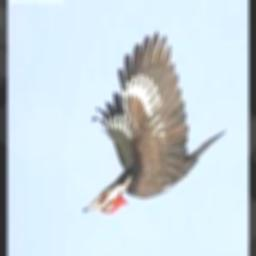Woodpecker: (83, 32, 226, 215)
